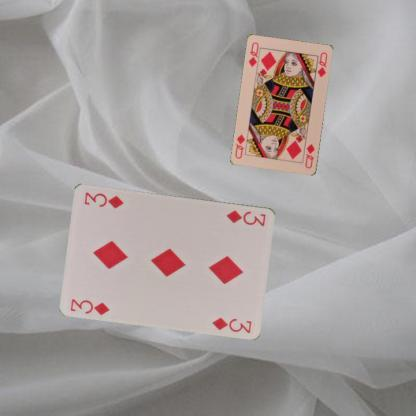3d: (224, 207, 267, 228), (68, 296, 111, 316)
Qd: (300, 138, 316, 170), (246, 40, 262, 70)
